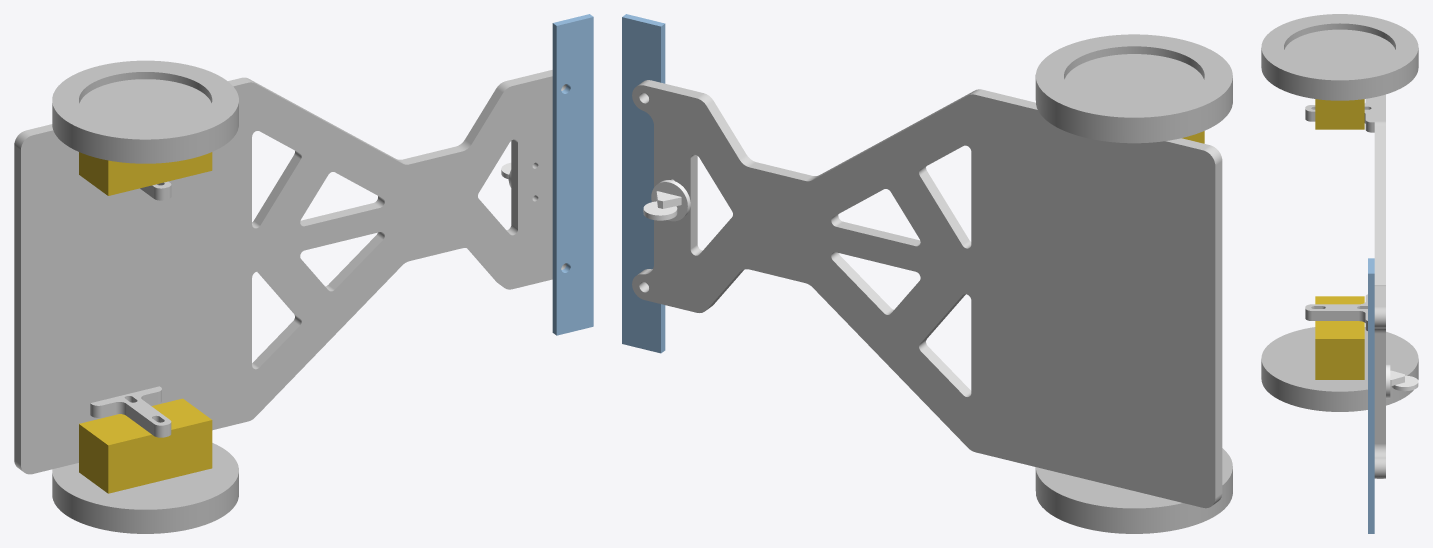
File: simple.dae
The picture shows the model from 3 angles, left to right: view 1: azimuth 30°, elevation 25°; view 2: azimuth 150°, elevation 25°; view 3: azimuth 270°, elevation 25°; orthographic projection. The views are drawn at different scales.
Parts seen in each view (by area): view 1: base, Body1.003, Body1.004, Body1.002, Body1, Body1.001; view 2: base, Body1.003, Body1.004, Body1.002, Body1.005; view 3: Body1.003, Body1.002, base, Body1, Body1.004, Body1.001, Body1.005, Body1.006.
Part boxes in pixels (bbox=[...]): base: bbox=[14, 70, 566, 474]; Body1.003: bbox=[52, 60, 238, 163]; Body1.004: bbox=[552, 14, 593, 335]; Body1.002: bbox=[52, 443, 238, 533]; Body1: bbox=[79, 398, 212, 493]; Body1.001: bbox=[79, 152, 212, 195]; base: bbox=[632, 80, 1222, 508]; Body1.003: bbox=[1035, 34, 1232, 143]; Body1.004: bbox=[622, 14, 665, 353]; Body1.002: bbox=[1035, 448, 1232, 533]; Body1.005: bbox=[651, 180, 690, 221]; Body1.003: bbox=[1261, 14, 1418, 100]; Body1.002: bbox=[1261, 327, 1418, 411]; base: bbox=[1305, 94, 1385, 478]; Body1: bbox=[1315, 296, 1364, 379]; Body1.004: bbox=[1368, 258, 1374, 533]; Body1.001: bbox=[1315, 99, 1364, 129]; Body1.005: bbox=[1386, 364, 1404, 398]; Body1.006: bbox=[1391, 375, 1418, 391].
Size of the model in its own units: 0.246 by 0.07 by 0.163.
